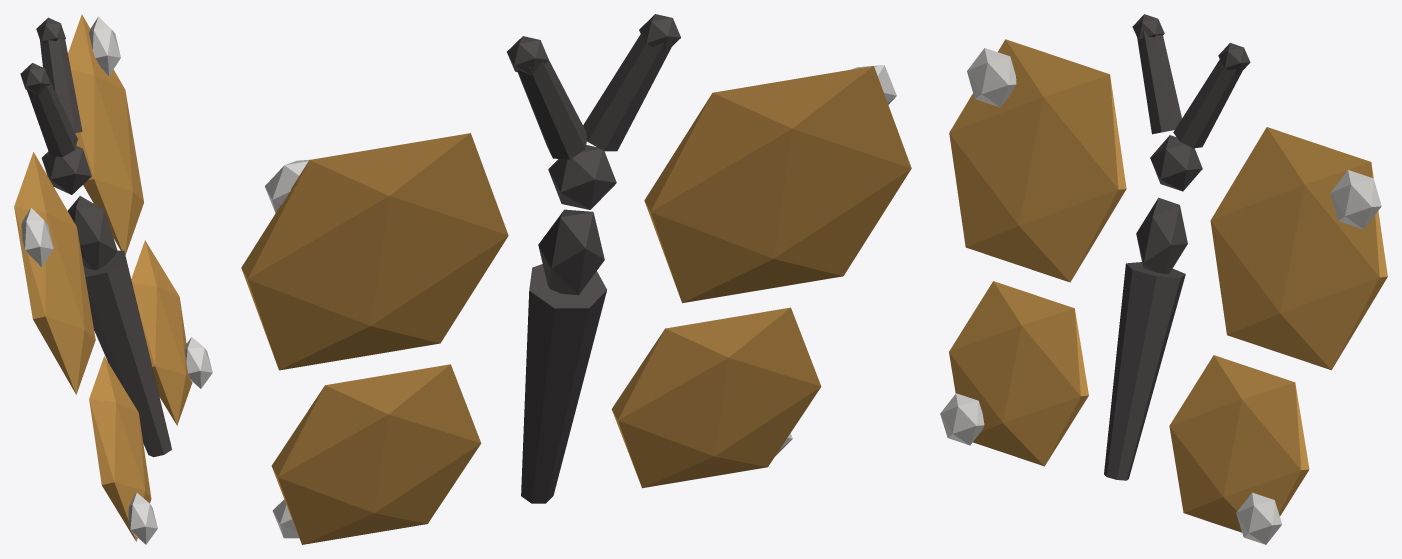
3 views of the same model, side by side, from view 1: azimuth 30°, elevation 25°; view 2: azimuth 150°, elevation 25°; view 3: azimuth 270°, elevation 25° (orthographic). The views are drawn at different scales.
Visible parts, largest first — view 1: part8, part7, part2, part10, part9, part1, part5, part3, part0, part12, part11, part14 (+3 smaller); view 2: part8, part7, part10, part9, part2, part5, part1, part3, part0, part4, part6, part11; view 3: part8, part7, part10, part9, part2, part5, part1, part3, part11, part12, part0, part13 (+3 smaller).
Part boxes in pixels (left/top/right/bottom): part8: left=14, top=152, right=95, bottom=394; part7: left=68, top=14, right=143, bottom=255; part2: left=83, top=250, right=171, bottom=457; part10: left=89, top=356, right=151, bottom=541; part9: left=131, top=240, right=192, bottom=425; part1: left=68, top=196, right=117, bottom=270; part5: left=26, top=75, right=77, bottom=157; part3: left=39, top=38, right=82, bottom=132; part0: left=41, top=146, right=91, bottom=194; part12: left=21, top=208, right=53, bottom=267; part11: left=89, top=16, right=120, bottom=75; part14: left=128, top=493, right=157, bottom=544; part8: left=644, top=66, right=911, bottom=303; part7: left=241, top=133, right=508, bottom=370; part10: left=611, top=307, right=821, bottom=488; part9: left=271, top=364, right=481, bottom=544; part2: left=521, top=264, right=606, bottom=503; part5: left=583, top=34, right=671, bottom=151; part1: left=538, top=209, right=604, bottom=295; part3: left=517, top=60, right=586, bottom=159; part0: left=548, top=145, right=616, bottom=209; part4: left=507, top=36, right=548, bottom=75; part6: left=639, top=14, right=680, bottom=53; part11: left=265, top=159, right=309, bottom=212; part8: left=949, top=39, right=1126, bottom=282; part7: left=1210, top=127, right=1387, bottom=370; part10: left=949, top=281, right=1088, bottom=466; part9: left=1169, top=355, right=1309, bottom=532; part2: left=1104, top=262, right=1185, bottom=480; part5: left=1137, top=31, right=1181, bottom=134; part1: left=1136, top=197, right=1187, bottom=273; part3: left=1173, top=59, right=1242, bottom=148; part11: left=1330, top=170, right=1381, bottom=229; part12: left=967, top=48, right=1016, bottom=107; part0: left=1150, top=135, right=1202, bottom=191; part13: left=1236, top=492, right=1282, bottom=544.
Size of the model in its own units: 7.71 by 9.17 by 8.93.
